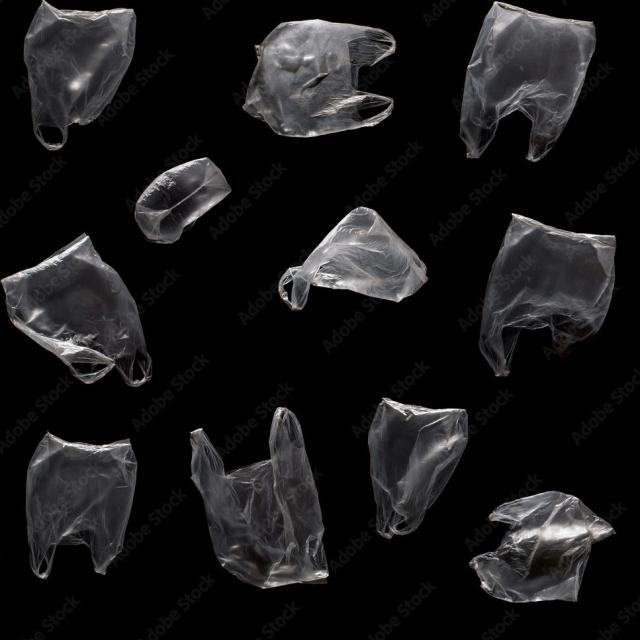Single-layer Plastic: (190, 408, 329, 589), (1, 234, 151, 386), (479, 214, 616, 376), (460, 1, 595, 161), (244, 20, 395, 137), (24, 1, 136, 149), (26, 432, 136, 579), (470, 491, 615, 602), (279, 206, 426, 310), (369, 399, 468, 538), (135, 158, 231, 243)
